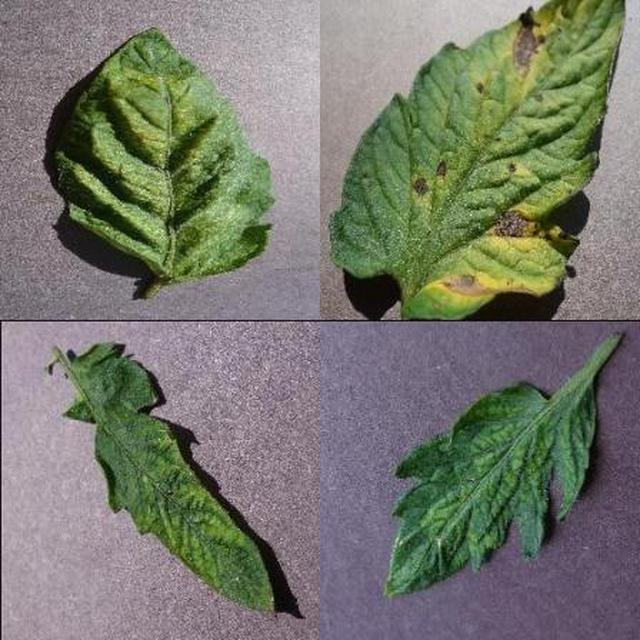Spider Mites Leaf: (236, 219, 640, 640)
